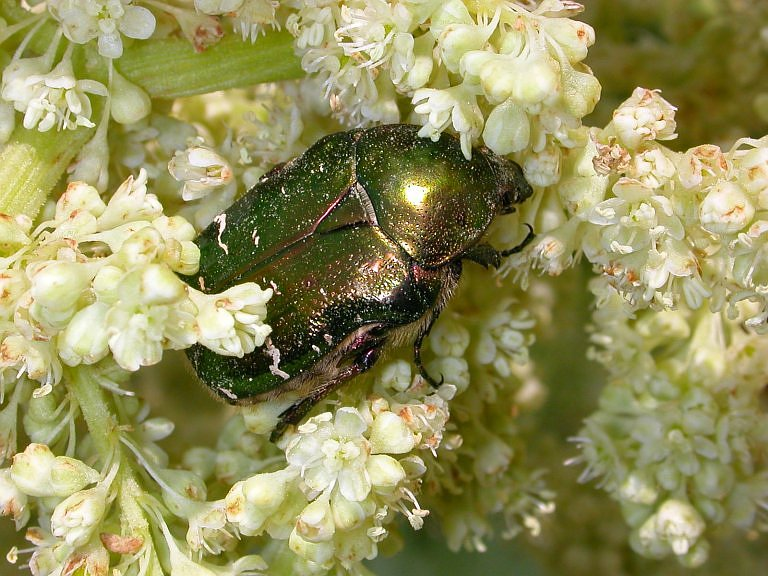Cetonia_aurata: (139, 110, 548, 447)
